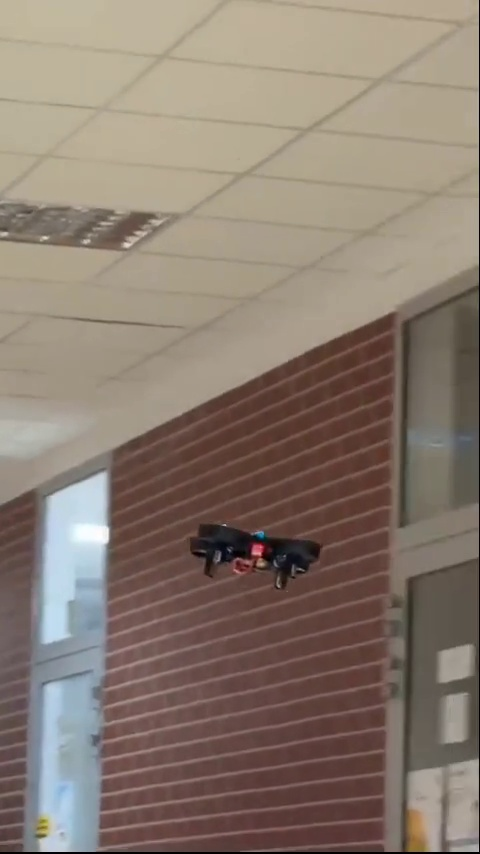drone: (189, 518, 312, 583)
